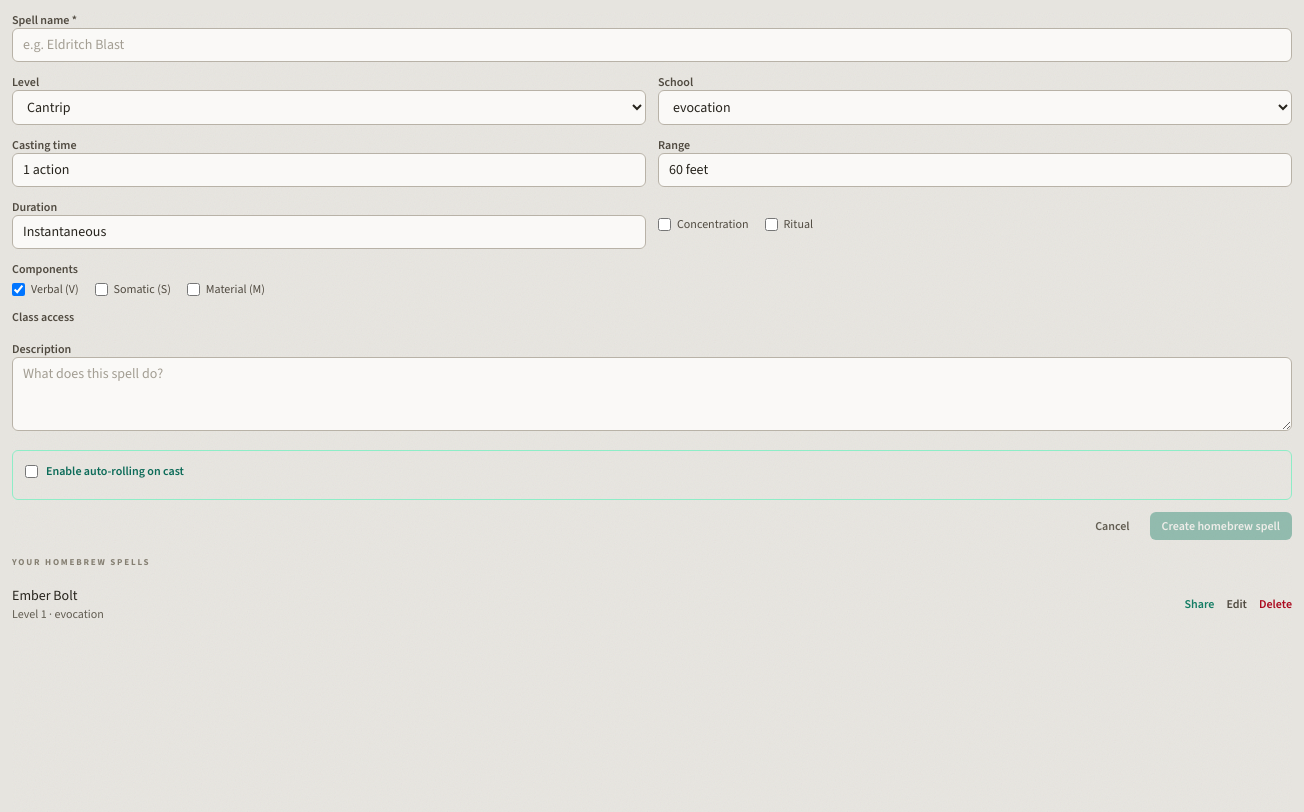
Scenario: HomebrewTab manage list › shows an error and resets the row's confirm state when deleteCustomSpell rejects
This screenshot has width=1304, height=812.
Click the button with aria-label "Delete Ember Bolt".
click(1276, 604)  # box [1259,596,1292,612]
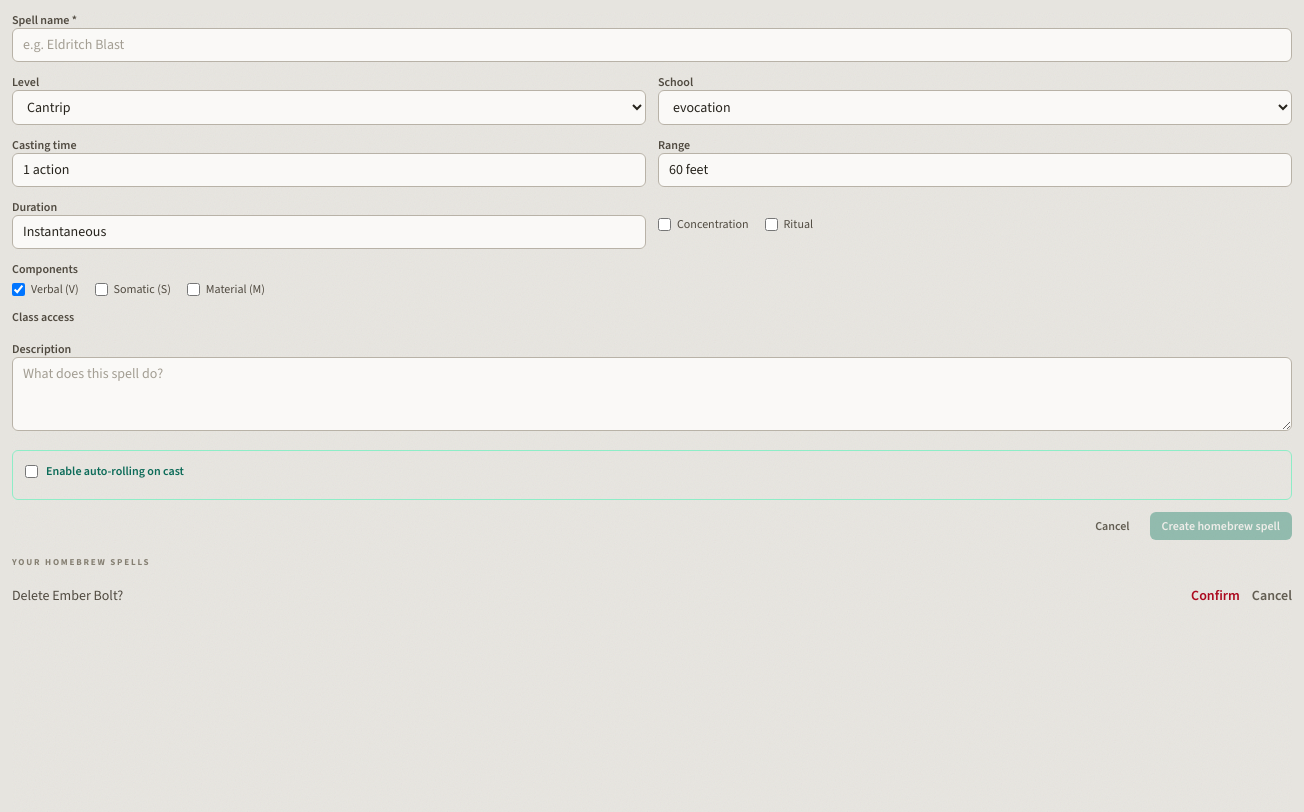
Click the button with aria-label "Confirm deleting Ember Bolt".
click(1215, 596)  # box [1191,586,1240,606]
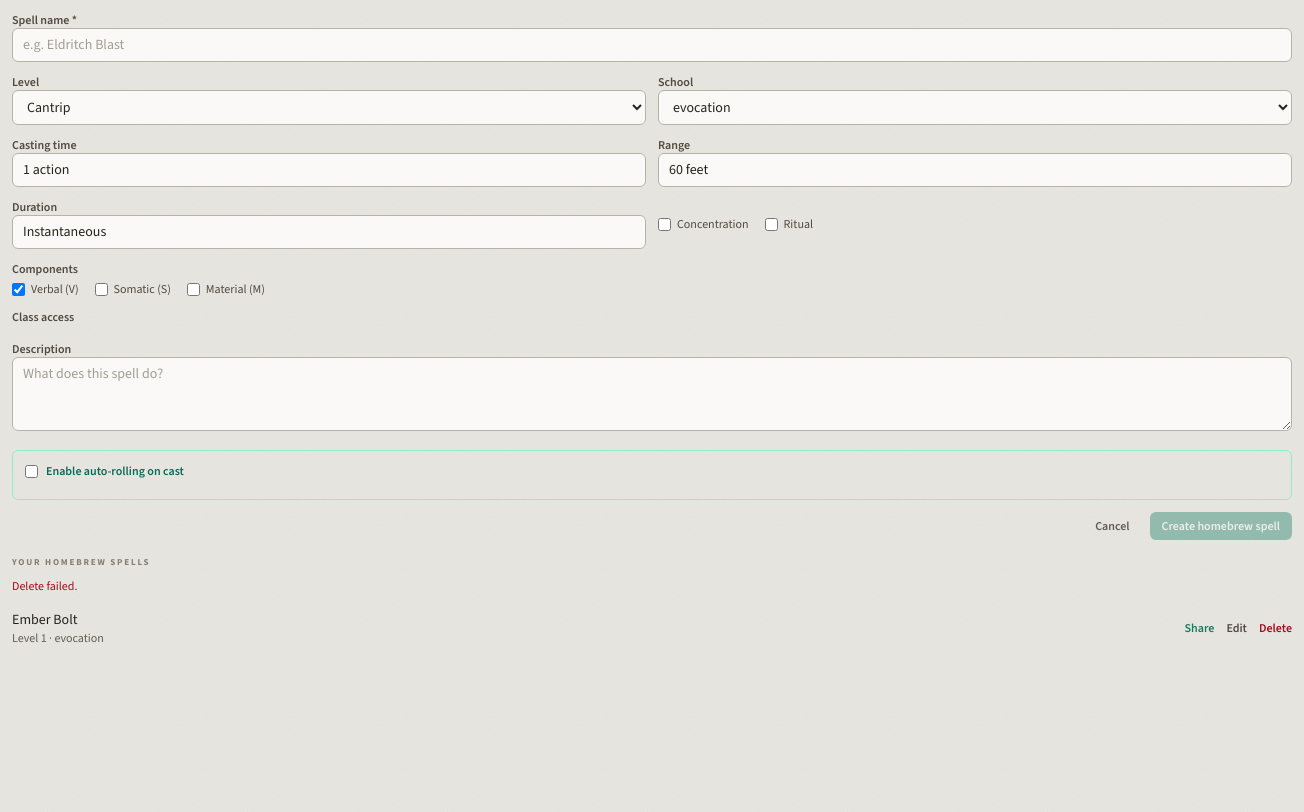
Expected: the text "Delete failed." is shown, [12,578,77,594]
Expected: the text "Delete Ember Bolt?" is gone
Expected: the button with aria-label "Delete Ember Bolt" is shown, [1259,620,1292,636]
